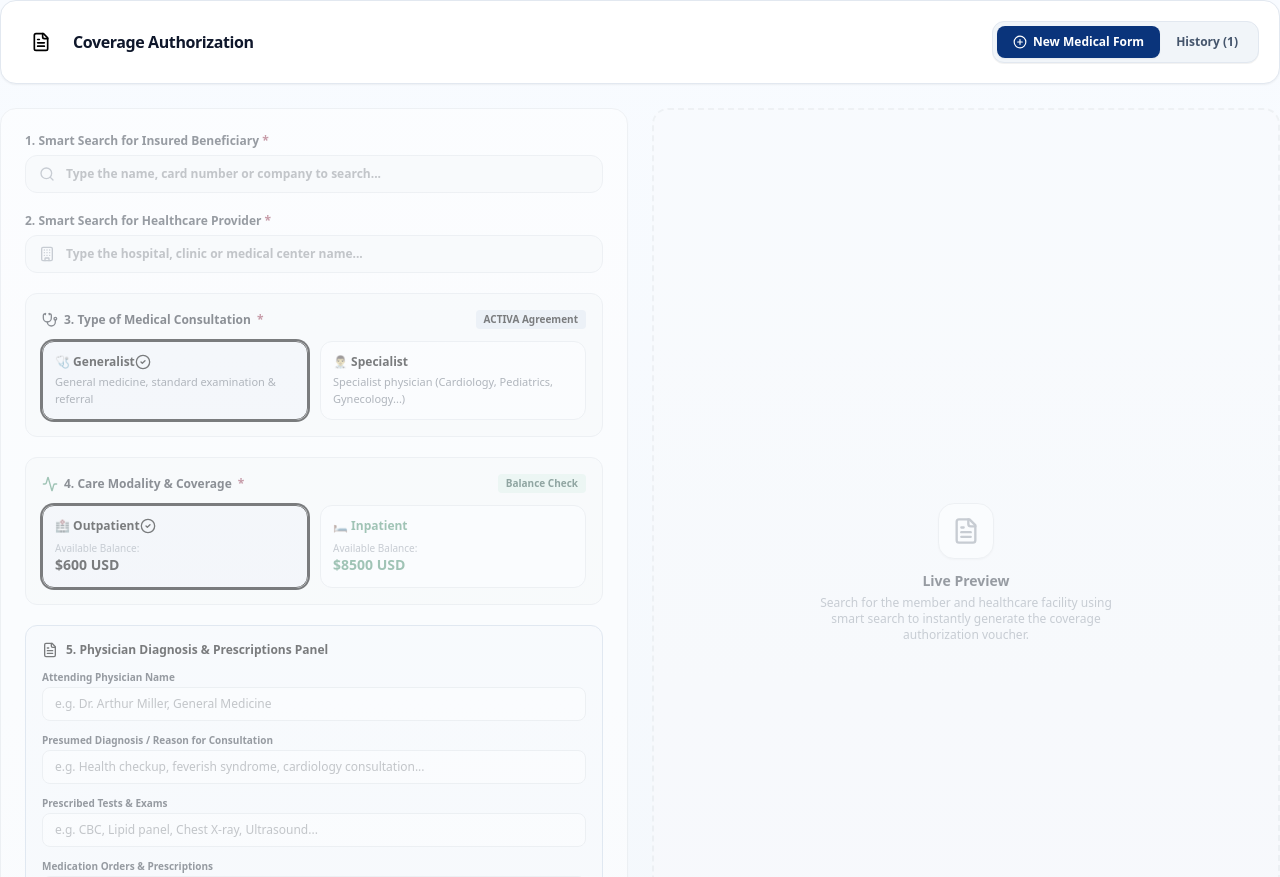
Test: AgentMedicalFormView — modale "Clear All History" (caractérisation avant migration) › bouton de confirmation désactivé tant que la phrase exacte et le motif ne sont pas tous deux renseignés
The width and height of the screenshot is (1280, 877).
Click the button "New Medical Form": [1079, 42] box [997, 26, 1160, 58]
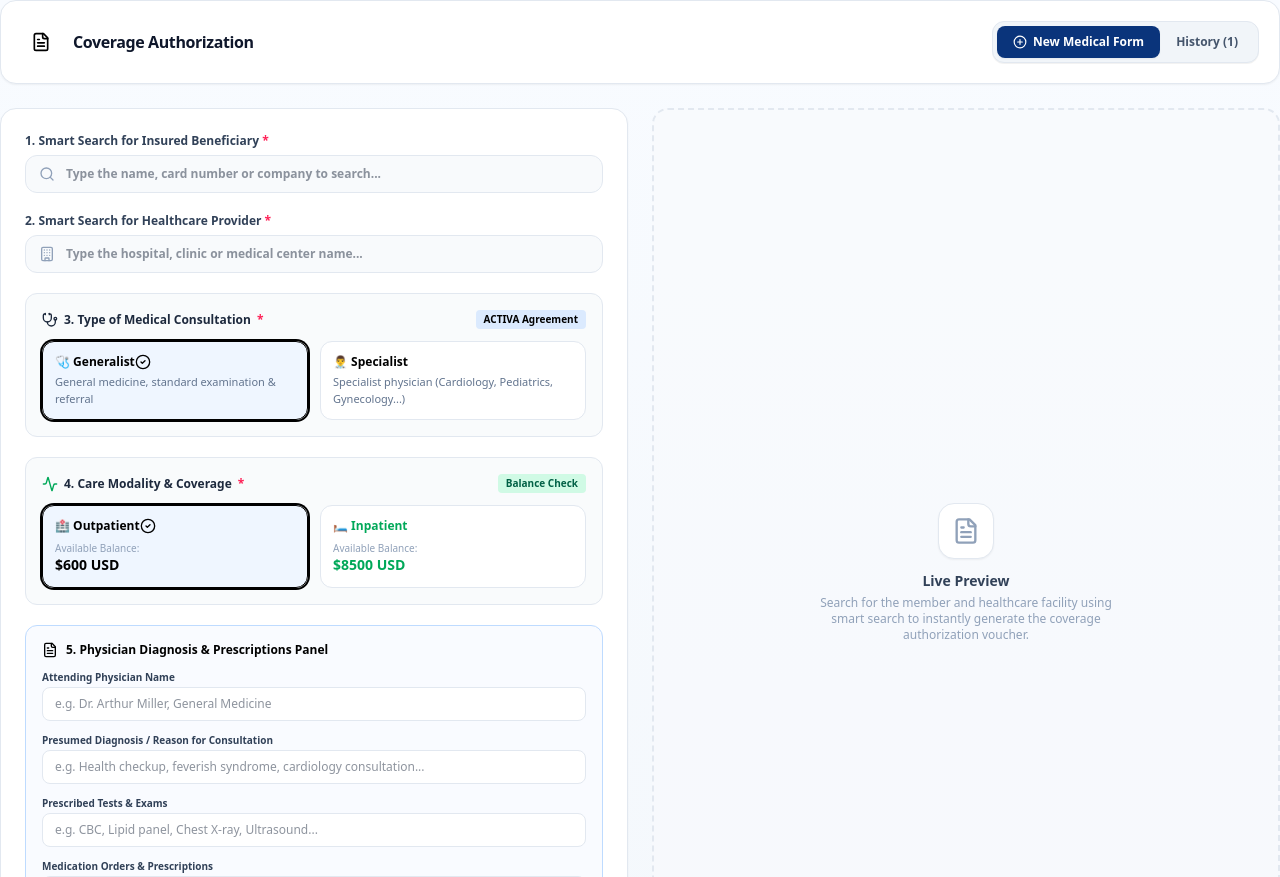
Click the button "History (1)": [1207, 42] box [1160, 26, 1254, 58]
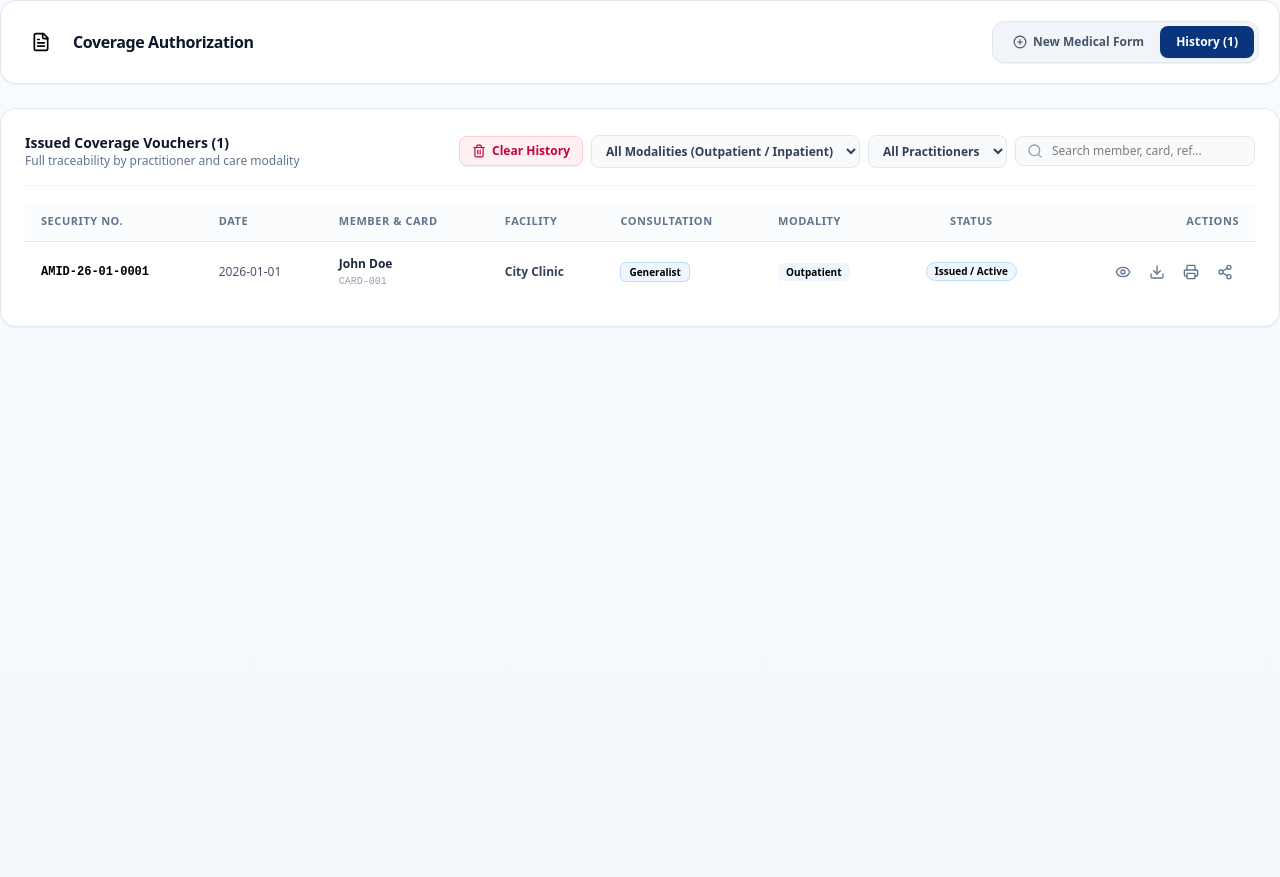
Click the button "Clear History": [521, 151] box [459, 136, 583, 166]
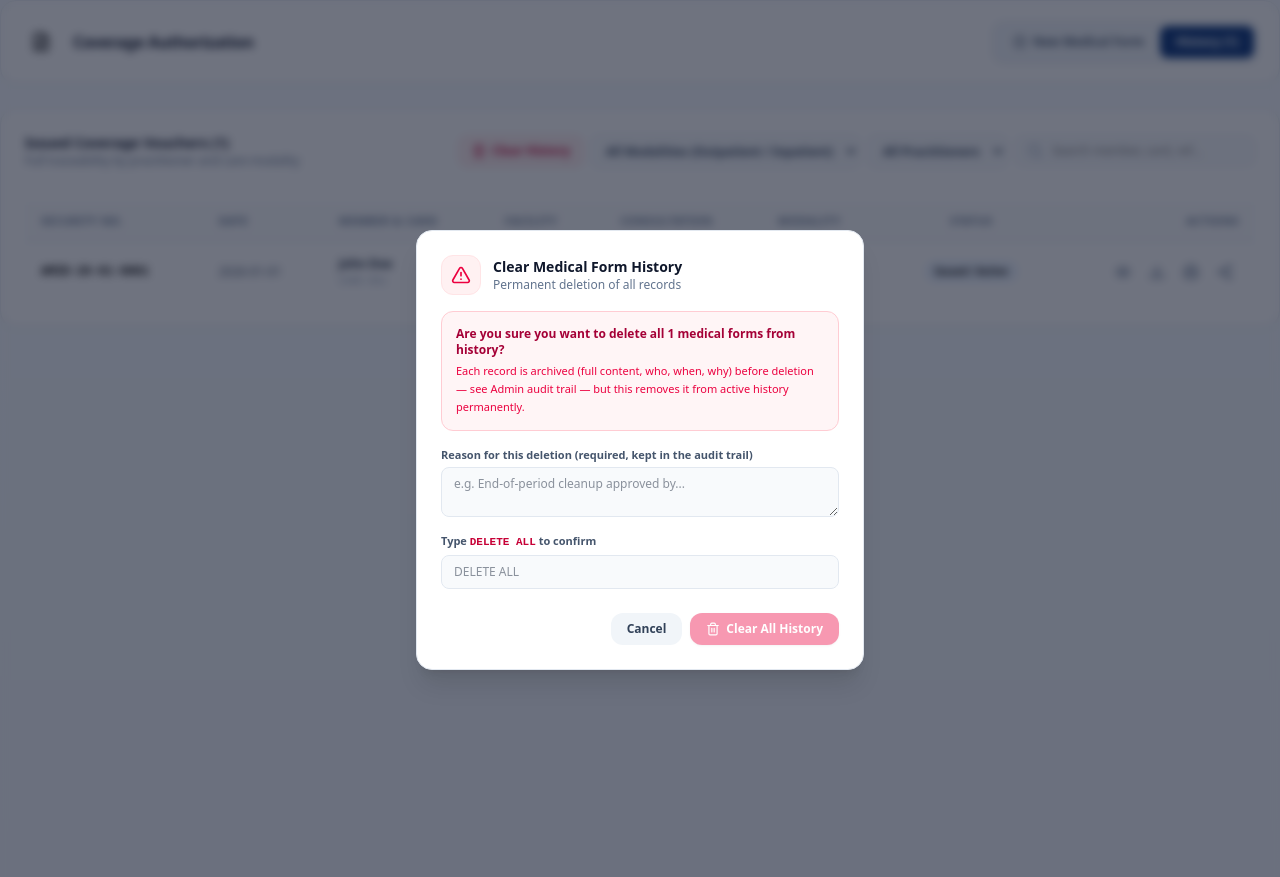
Expected: the button "Clear All History" is disabled, [690, 613, 839, 645]
In the text box with placeholder "e.g. End-of-period cleanup approved by...": [640, 492] box [441, 467, 839, 517], type "Cleanup"
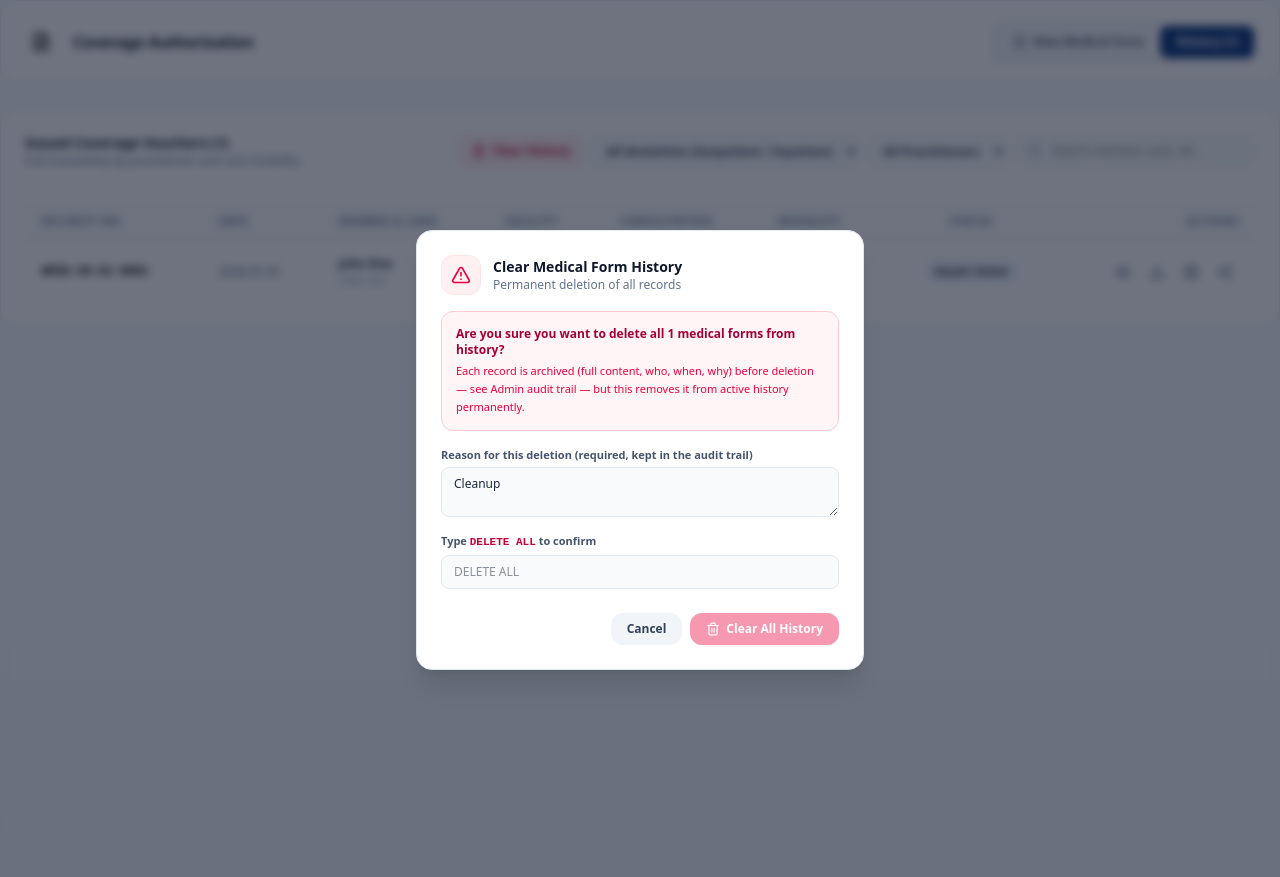
Expected: the button "Clear All History" is disabled, [690, 613, 839, 645]
In the field with placeholder "DELETE ALL": [640, 572] box [441, 555, 839, 589], type "delete all"
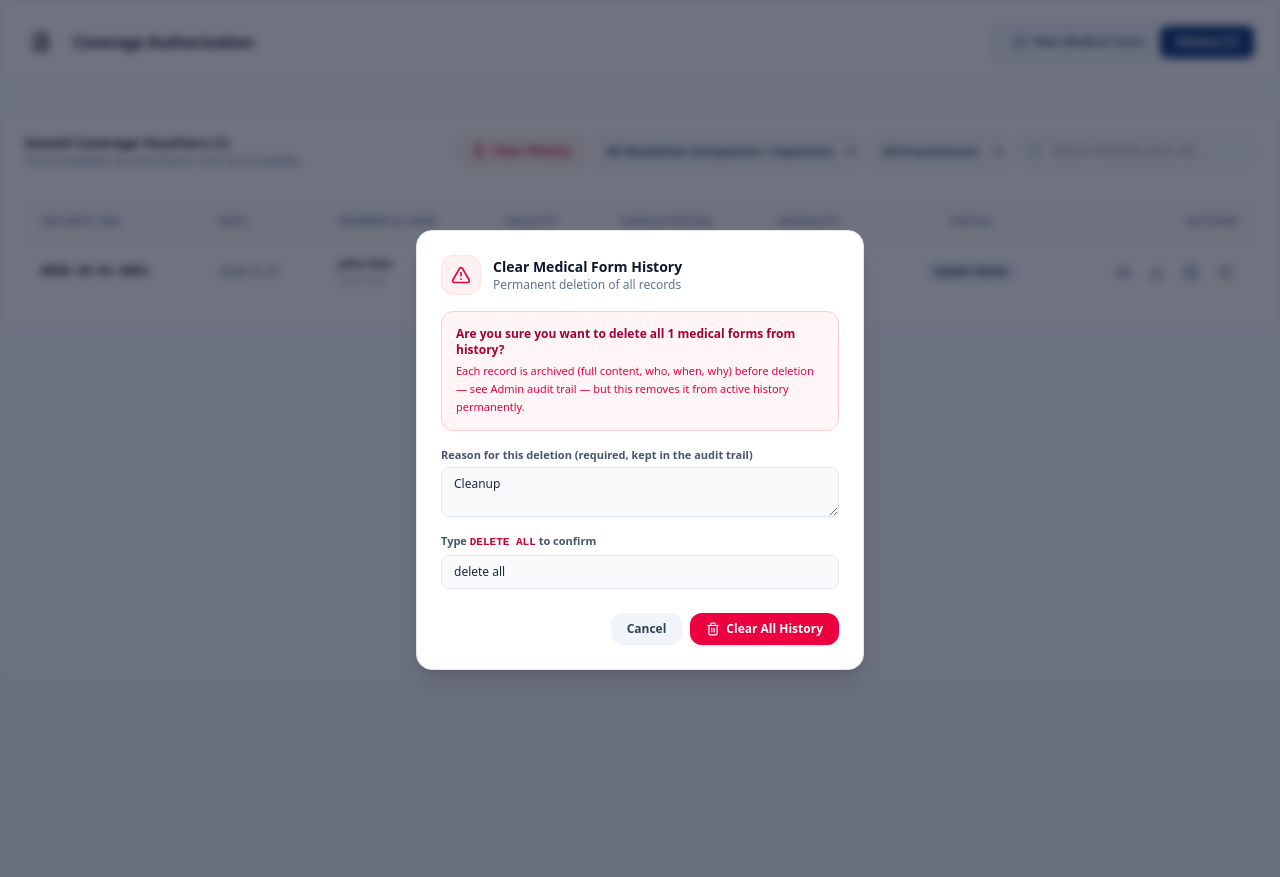
Expected: the button "Clear All History" is enabled, [690, 613, 839, 645]
